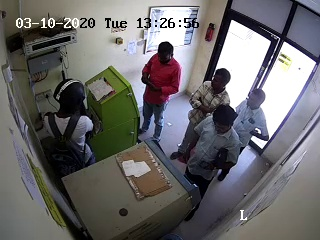helmet: (52, 77, 91, 110)
